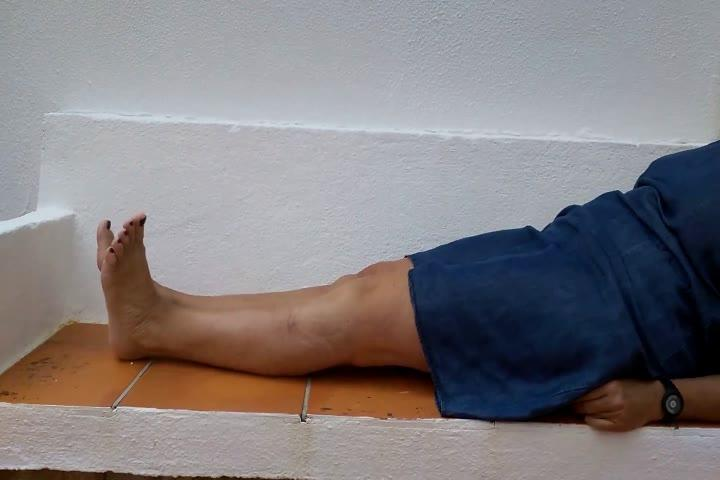lowerbody: (90, 207, 670, 413)
